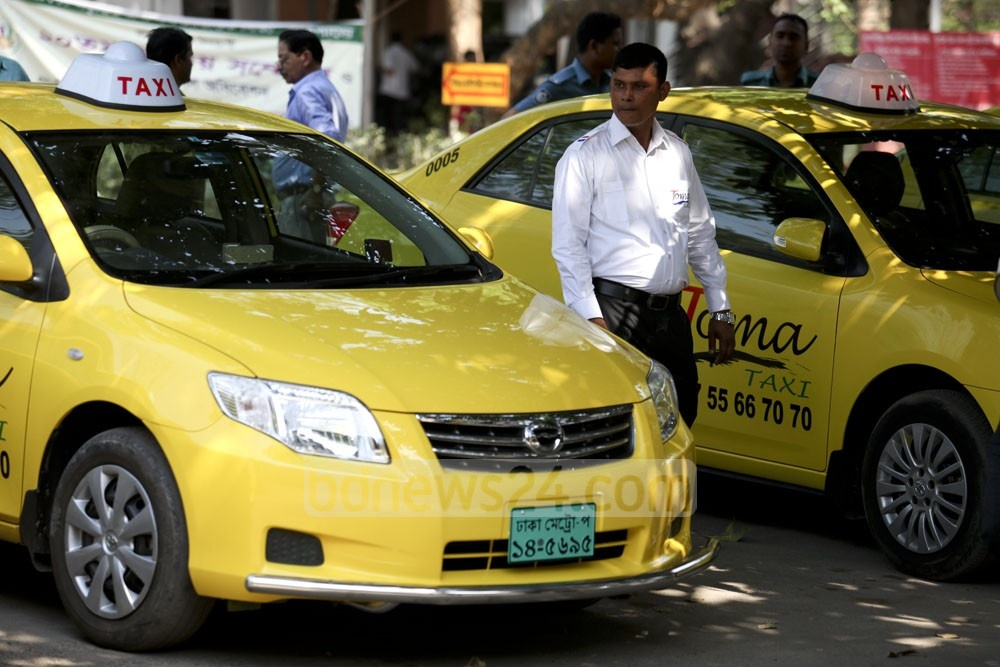taxi: (2, 40, 718, 657), (399, 50, 1000, 578)
